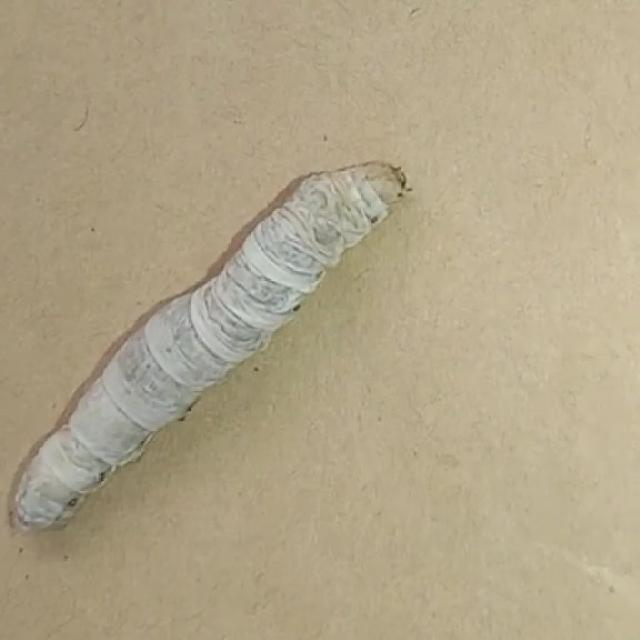Grasserie: (15, 150, 420, 554)
